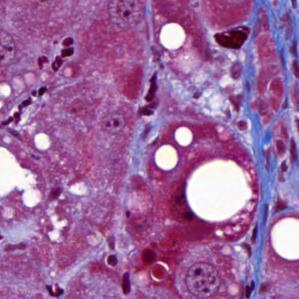inflammation: (33, 35, 78, 74), (133, 66, 164, 121), (208, 23, 255, 52)
